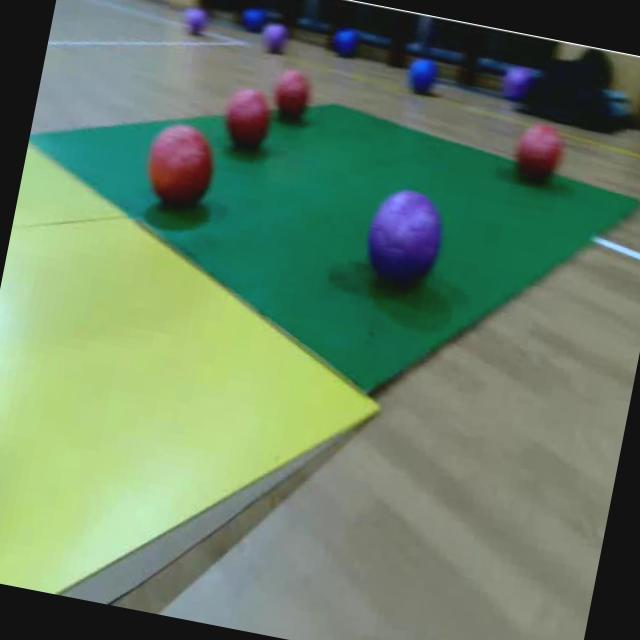blue_ball: (406, 54, 438, 94), (332, 26, 358, 56), (244, 8, 265, 31)
purple_ball: (362, 184, 450, 288), (502, 65, 534, 103), (264, 24, 290, 54), (187, 6, 210, 32)
red_ball: (142, 118, 222, 214), (220, 87, 278, 155), (512, 119, 569, 184), (270, 68, 314, 120)
